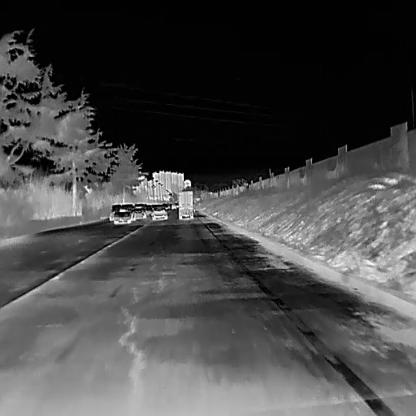car: (113, 204, 132, 223), (151, 204, 167, 219), (124, 202, 135, 220), (134, 202, 146, 218)
truck: (176, 188, 193, 219)
